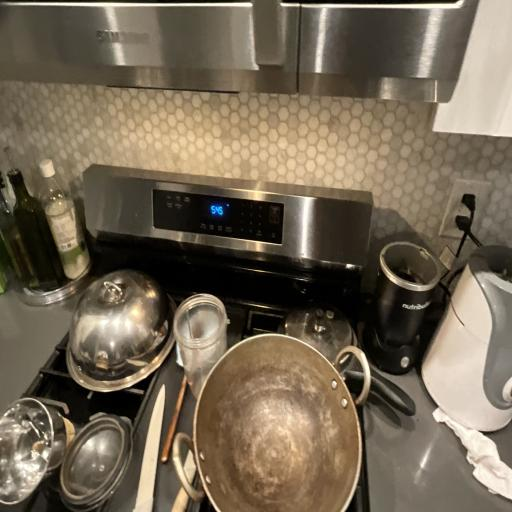Pan: (176, 321, 396, 512)
Stove: (13, 189, 417, 512)
knife: (122, 370, 182, 512), (169, 400, 210, 512)
